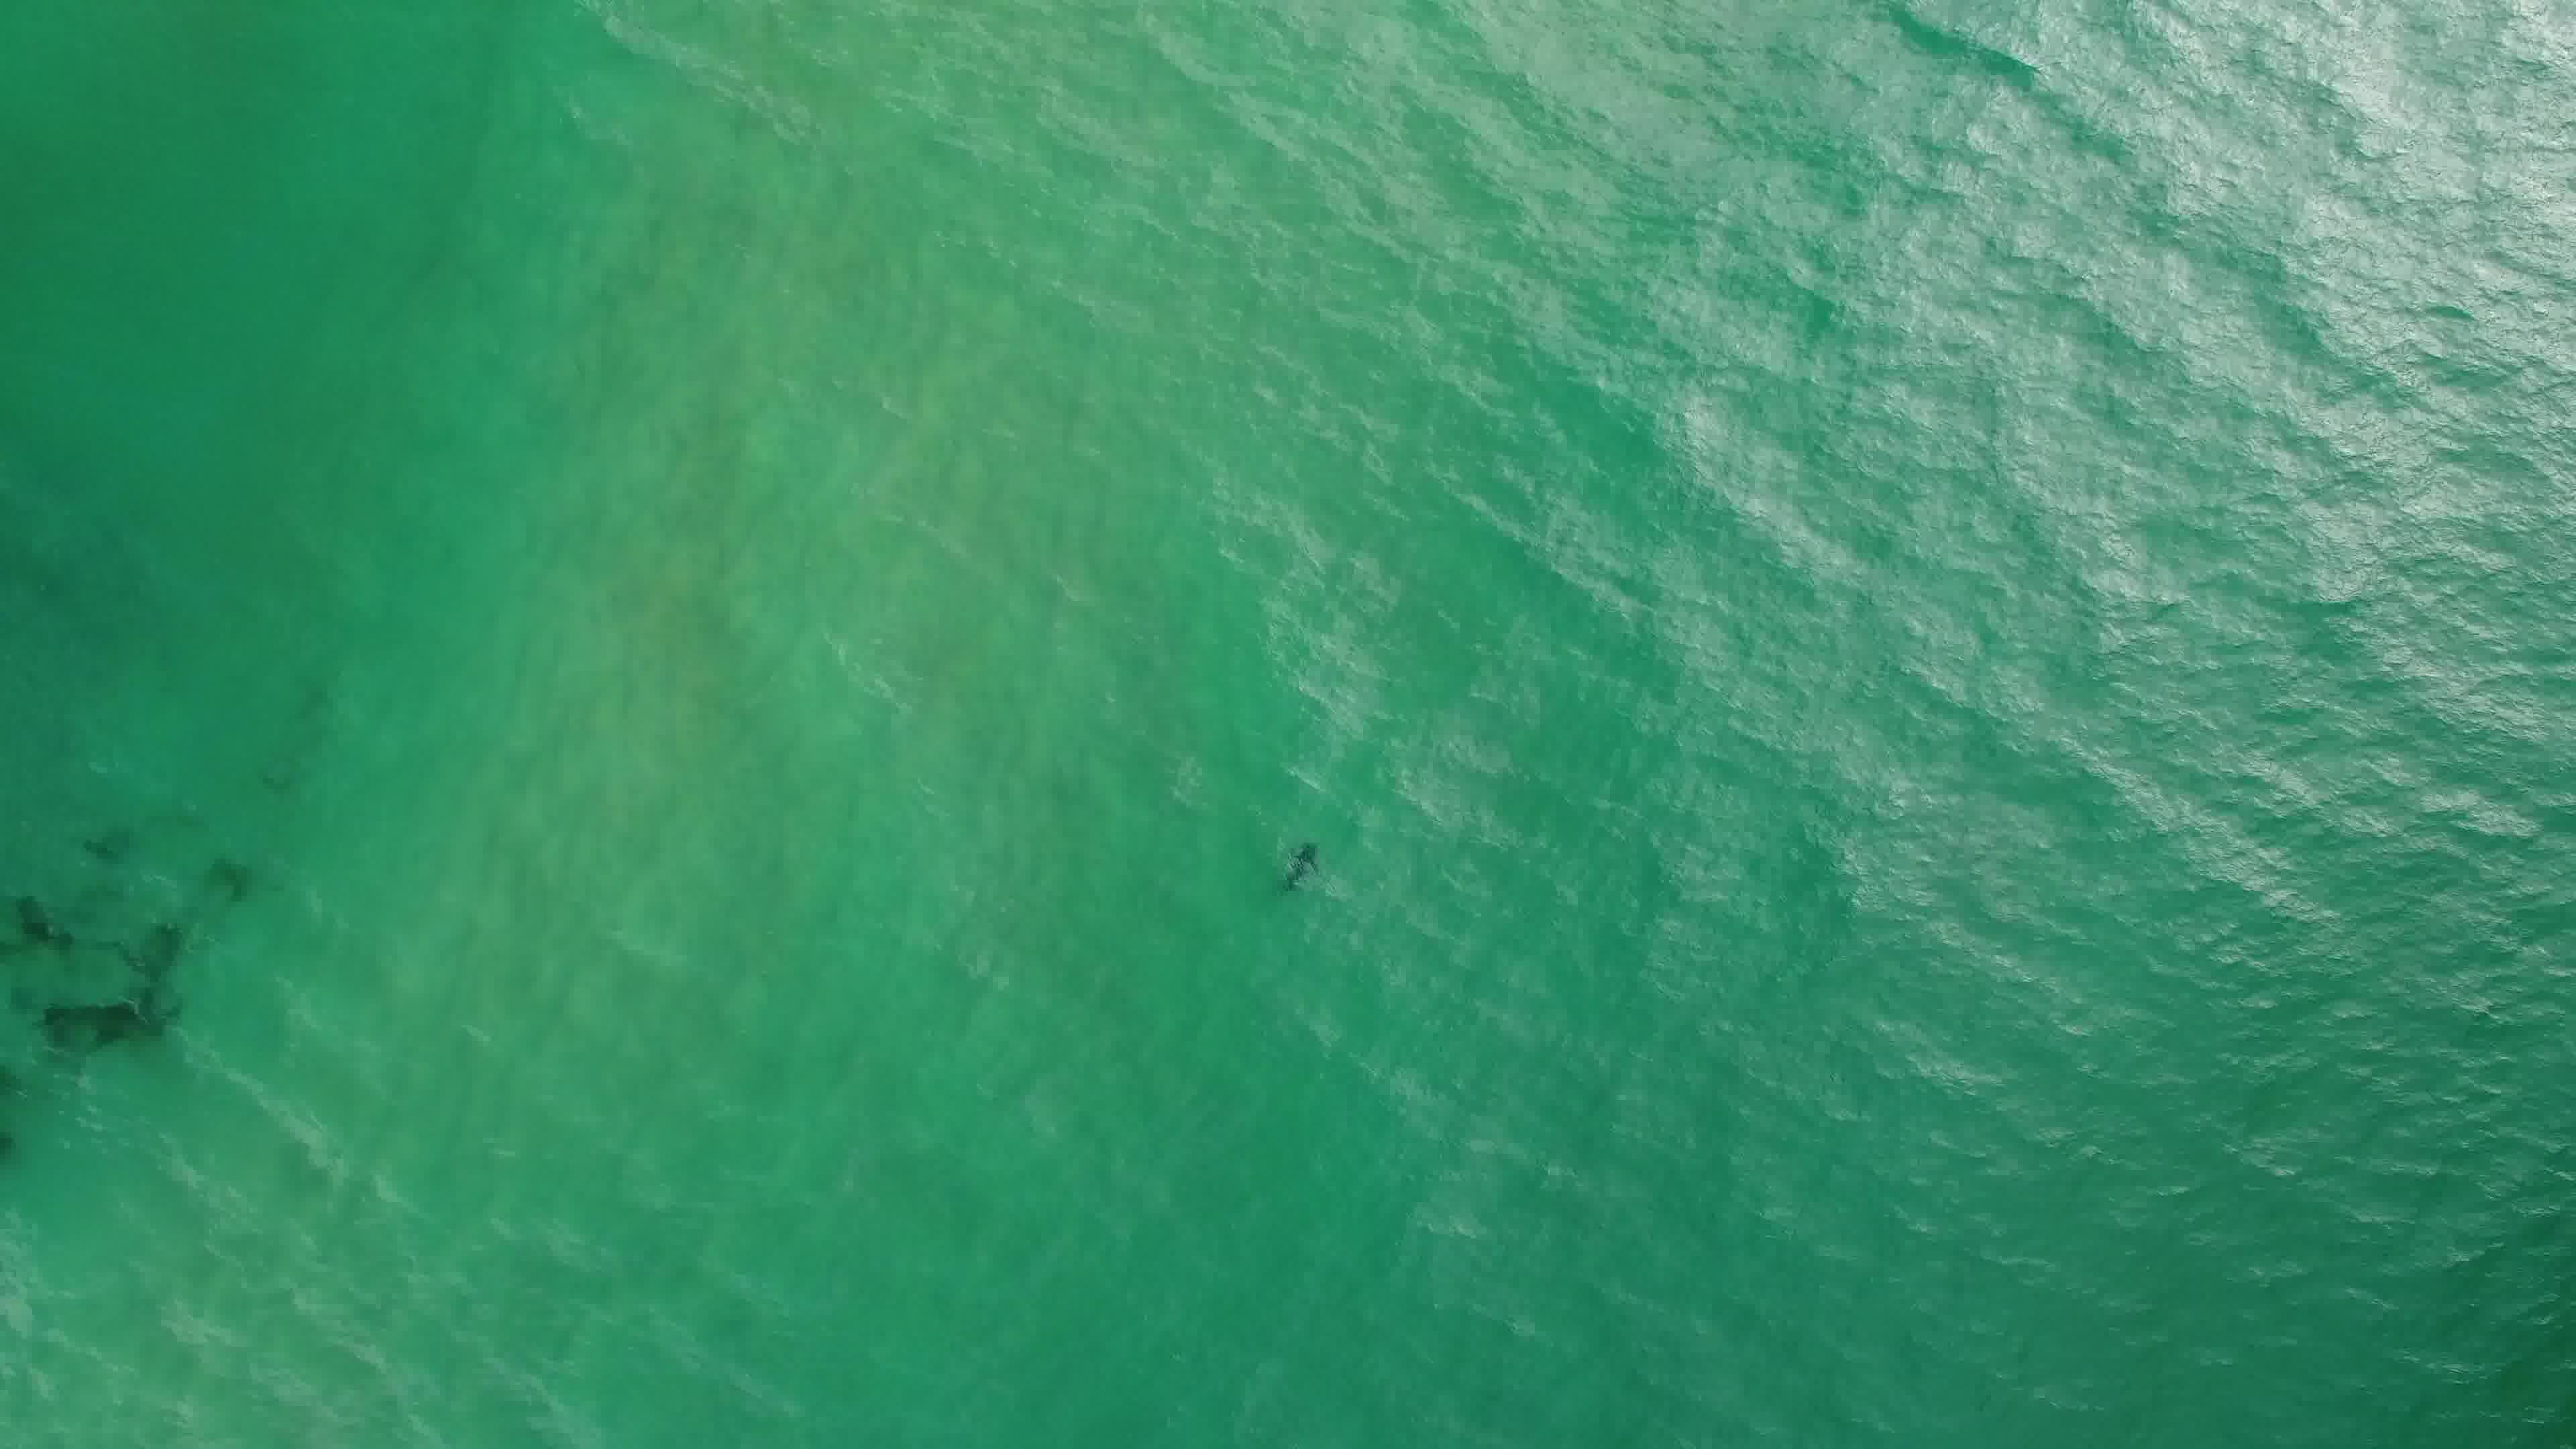shark: (1276, 835, 1330, 904)
